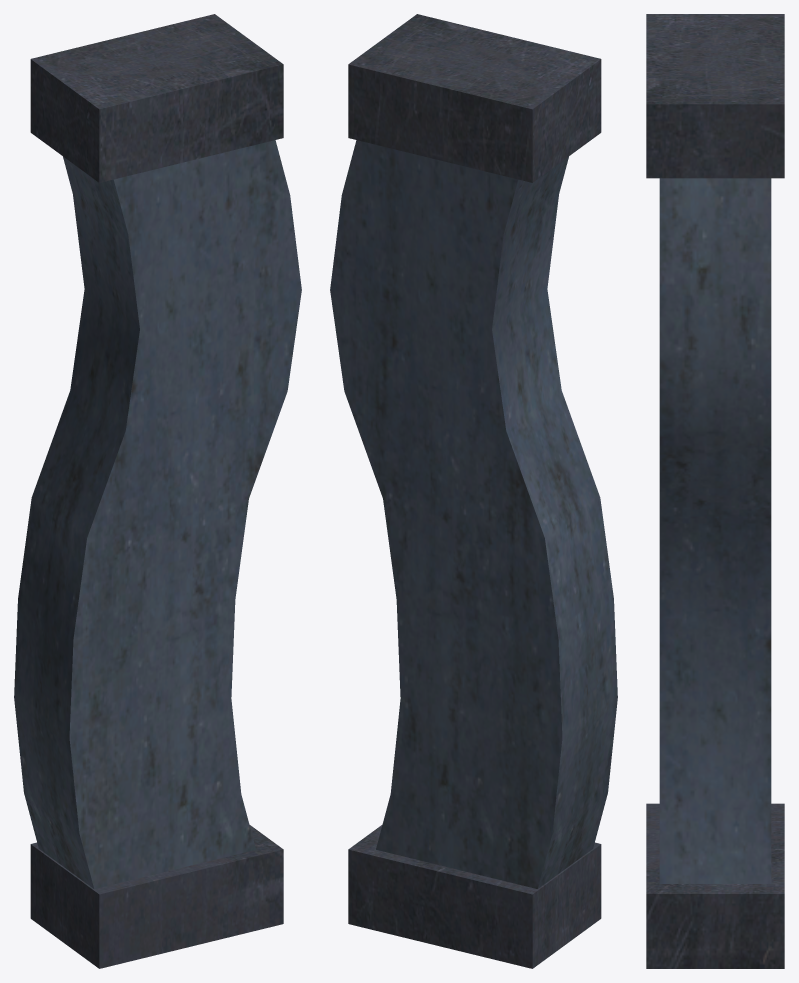
The model's file is Prop_Sg02.glb.
3 renders of one model, left to right at view 1: azimuth 30°, elevation 25°; view 2: azimuth 150°, elevation 25°; view 3: azimuth 270°, elevation 25°, orthographic.
Parts seen in each view (by area): view 1: xiutz_sg02; view 2: xiutz_sg02; view 3: xiutz_sg02.
Part boxes in pixels (x1,y1,x2,y2): xiutz_sg02: (14, 14, 301, 968); xiutz_sg02: (330, 14, 617, 968); xiutz_sg02: (646, 14, 784, 968).
Size of the model in its own units: 0.3736 by 1.32 by 0.1918.
Materials: 1 (1 with a texture image).
